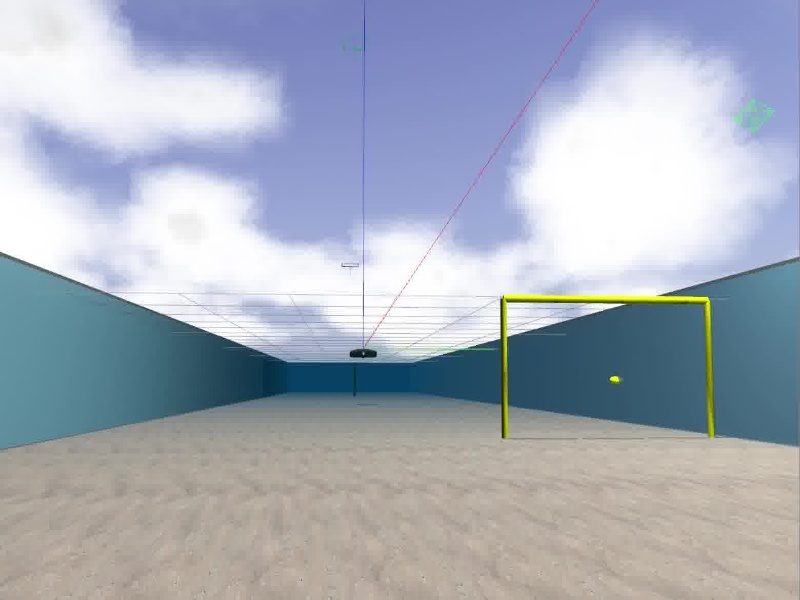gate: (501, 294, 716, 440)
